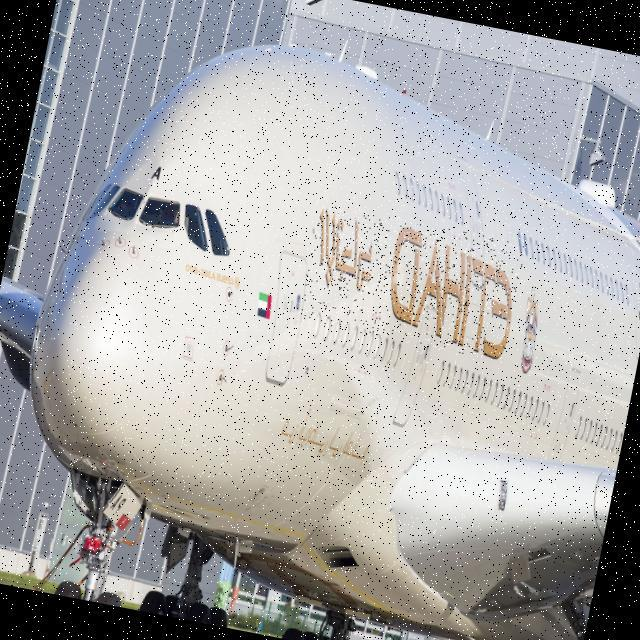Etihad Airways: (298, 204, 527, 362)
